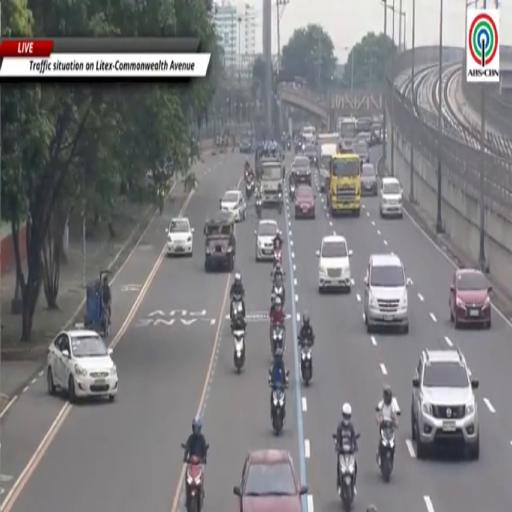car: (411, 347, 479, 459), (47, 326, 118, 403), (234, 450, 308, 511), (364, 253, 411, 333), (450, 269, 491, 328), (316, 235, 352, 293), (166, 218, 194, 255), (255, 219, 278, 261), (379, 178, 402, 218), (221, 189, 246, 221), (295, 185, 315, 218), (292, 156, 311, 185), (361, 164, 378, 196), (354, 139, 369, 163), (303, 142, 317, 166), (358, 132, 371, 146)
motorcycle: (333, 435, 356, 511), (378, 420, 395, 482), (186, 456, 204, 511), (270, 382, 285, 435), (299, 342, 312, 386), (233, 330, 245, 373), (270, 325, 285, 358), (231, 296, 244, 331), (271, 276, 284, 306), (273, 249, 282, 268), (246, 179, 254, 199), (289, 183, 296, 200), (256, 198, 261, 218), (278, 192, 282, 214), (286, 141, 290, 150)
tricycle: (84, 270, 110, 337)
truck: (326, 154, 362, 216), (204, 211, 236, 271), (258, 159, 283, 214), (319, 141, 337, 193), (338, 117, 357, 151)
